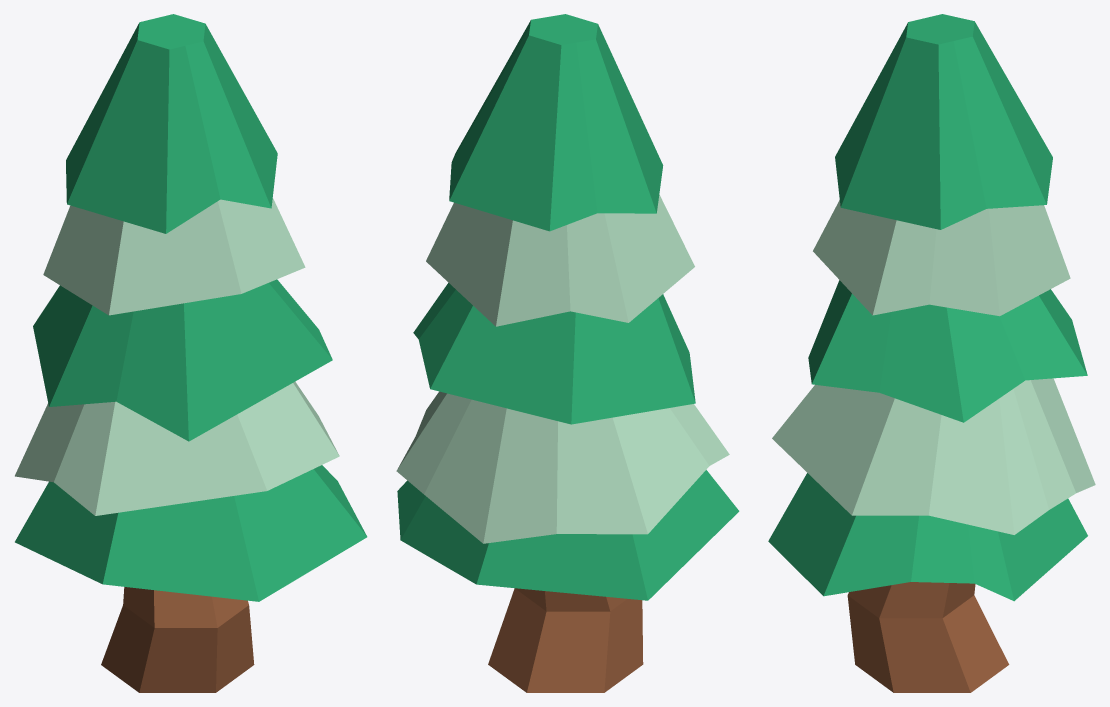
The model's file is ArbolInvierno2.fbx.
3 renders of one model, left to right at view 1: azimuth 30°, elevation 25°; view 2: azimuth 150°, elevation 25°; view 3: azimuth 270°, elevation 25°, orthographic.
Visible parts, largest first — view 1: Cylinder.005, Cylinder.003, Cylinder.001, Cylinder.002, Cylinder.004, Cylinder; view 2: Cylinder.002, Cylinder.005, Cylinder.003, Cylinder.004, Cylinder.001, Cylinder; view 3: Cylinder.002, Cylinder.005, Cylinder.003, Cylinder.001, Cylinder.004, Cylinder.
Boxes of the visible parts, <box> form: Cylinder.005: <box>66,14,277,233</box>; Cylinder.003: <box>33,279,332,441</box>; Cylinder.001: <box>15,465,367,601</box>; Cylinder.002: <box>15,381,339,515</box>; Cylinder.004: <box>43,198,305,315</box>; Cylinder: <box>101,587,254,692</box>; Cylinder.002: <box>396,391,729,543</box>; Cylinder.005: <box>449,14,663,231</box>; Cylinder.003: <box>413,283,695,424</box>; Cylinder.004: <box>426,194,694,326</box>; Cylinder.001: <box>397,470,739,600</box>; Cylinder: <box>488,588,643,692</box>; Cylinder.002: <box>772,378,1095,534</box>; Cylinder.005: <box>835,14,1052,229</box>; Cylinder.003: <box>808,280,1087,422</box>; Cylinder.001: <box>768,473,1087,601</box>; Cylinder.004: <box>813,200,1070,316</box>; Cylinder: <box>847,582,1009,692</box>.
Bounding box in the file's own units: 426 × 910 × 425.
